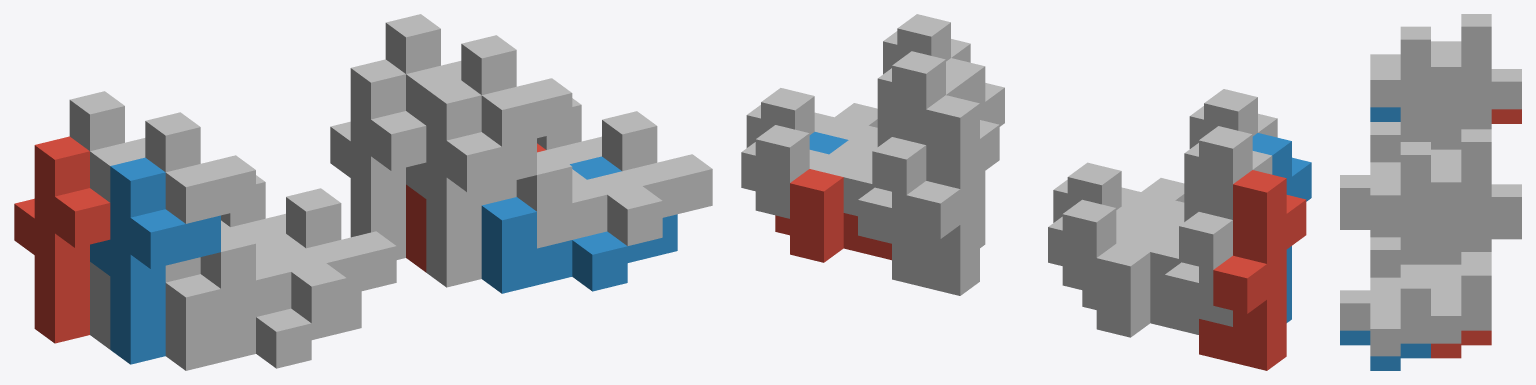
Rendered from tiling.obj.
3 views of the same model, side by side, from view 1: azimuth 30°, elevation 25°; view 2: azimuth 150°, elevation 25°; view 3: azimuth 270°, elevation 25° (orthographic). The views are drawn at different scales.
Parts seen in each view (by area): view 1: copy_2_domain_8, copy_2_domain_4, copy_1_domain_2, copy_1_domain_6, copy_1_domain_1, copy_1_domain_5, copy_2_domain_2, copy_2_domain_6, copy_1_domain_8, copy_1_domain_4, copy_1_domain_3, copy_1_domain_7 (+4 smaller); view 2: copy_1_domain_1, copy_1_domain_5, copy_1_domain_7, copy_1_domain_3, copy_2_domain_7, copy_2_domain_3, copy_2_domain_1, copy_2_domain_5, copy_2_domain_4, copy_2_domain_8, copy_1_domain_4, copy_1_domain_8 (+4 smaller); view 3: copy_2_domain_8, copy_1_domain_7, copy_1_domain_8, copy_1_domain_3, copy_1_domain_4, copy_2_domain_7, copy_2_domain_4, copy_2_domain_6, copy_2_domain_3, copy_2_domain_5, copy_1_domain_6, copy_1_domain_5 (+3 smaller).
Part boxes in pixels (x1,y1,x2,y2): copy_2_domain_8: (516, 111, 712, 248); copy_2_domain_4: (200, 188, 396, 325); copy_1_domain_2: (90, 157, 220, 364); copy_1_domain_6: (406, 80, 536, 287); copy_1_domain_1: (14, 136, 110, 343); copy_1_domain_5: (330, 59, 426, 259); copy_2_domain_2: (165, 233, 361, 370); copy_2_domain_6: (481, 156, 677, 293); copy_1_domain_8: (461, 35, 572, 205); copy_1_domain_4: (145, 112, 255, 282); copy_1_domain_3: (69, 91, 145, 202); copy_1_domain_7: (385, 14, 461, 125); copy_1_domain_1: (1199, 170, 1306, 370); copy_1_domain_5: (892, 95, 999, 295); copy_1_domain_7: (858, 51, 965, 251); copy_1_domain_3: (1164, 126, 1272, 326); copy_2_domain_7: (741, 125, 877, 218); copy_2_domain_3: (1048, 199, 1183, 293); copy_2_domain_1: (1082, 243, 1198, 337); copy_2_domain_5: (775, 169, 891, 262); copy_2_domain_4: (1053, 162, 1184, 222); copy_2_domain_8: (746, 88, 877, 147); copy_1_domain_4: (1170, 89, 1277, 239); copy_1_domain_8: (863, 14, 970, 164); copy_2_domain_8: (1340, 237, 1430, 356); copy_1_domain_7: (1431, 129, 1521, 262); copy_1_domain_8: (1370, 142, 1461, 275); copy_1_domain_3: (1431, 14, 1521, 129); copy_1_domain_4: (1370, 26, 1461, 141); copy_2_domain_7: (1431, 237, 1491, 343); copy_2_domain_4: (1340, 122, 1400, 215); copy_2_domain_6: (1340, 330, 1430, 370); copy_2_domain_3: (1431, 122, 1461, 156); copy_2_domain_5: (1431, 330, 1491, 358); copy_1_domain_6: (1370, 222, 1400, 237); copy_1_domain_5: (1491, 224, 1521, 239).
Bounding box in the file's own units: 17 × 6 × 6.
